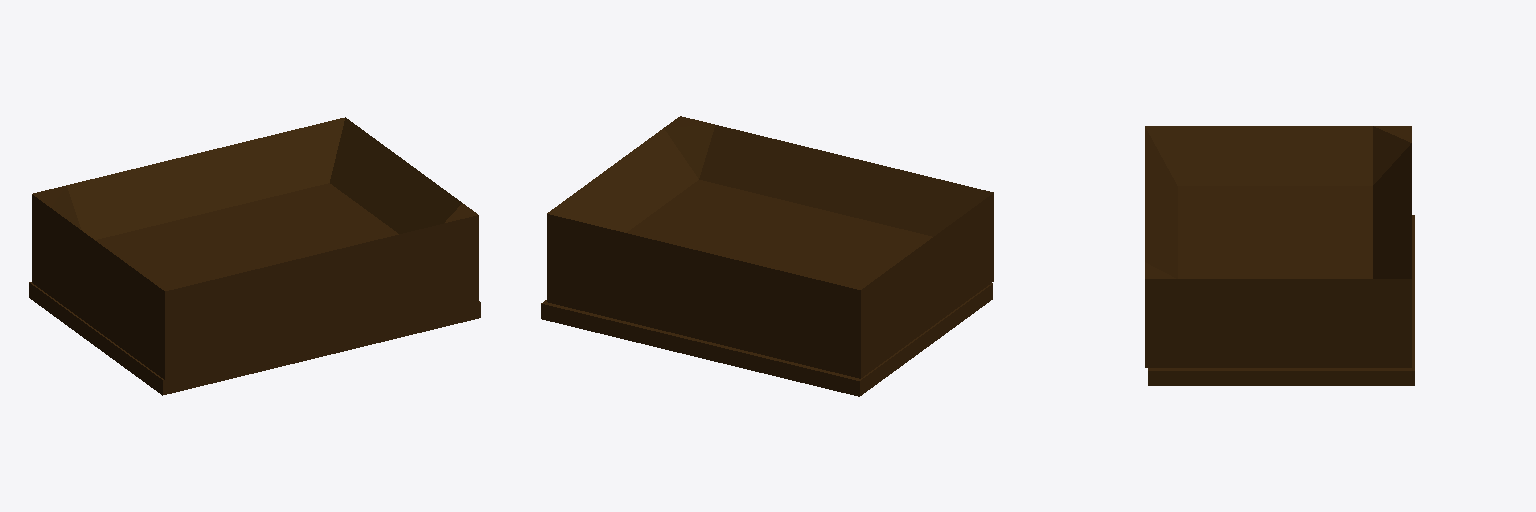
Rendered from sertar.obj.
The picture shows the model from 3 angles: view 1: azimuth 30°, elevation 25°; view 2: azimuth 150°, elevation 25°; view 3: azimuth 270°, elevation 25°; orthographic projection.
Parts seen in each view (by area): view 1: Cube.016_Cube.003, Cube.001; view 2: Cube.016_Cube.003, Cube.001; view 3: Cube.016_Cube.003, Cube.001.
Boxes of the visible parts, <box> form: Cube.016_Cube.003: <box>32,117,478,379</box>; Cube.001: <box>29,282,480,395</box>; Cube.016_Cube.003: <box>547,116,993,378</box>; Cube.001: <box>541,283,992,396</box>; Cube.016_Cube.003: <box>1145,126,1411,367</box>; Cube.001: <box>1148,215,1414,385</box>.
Size of the model in its own units: 2.76 by 0.8697 by 2.03.